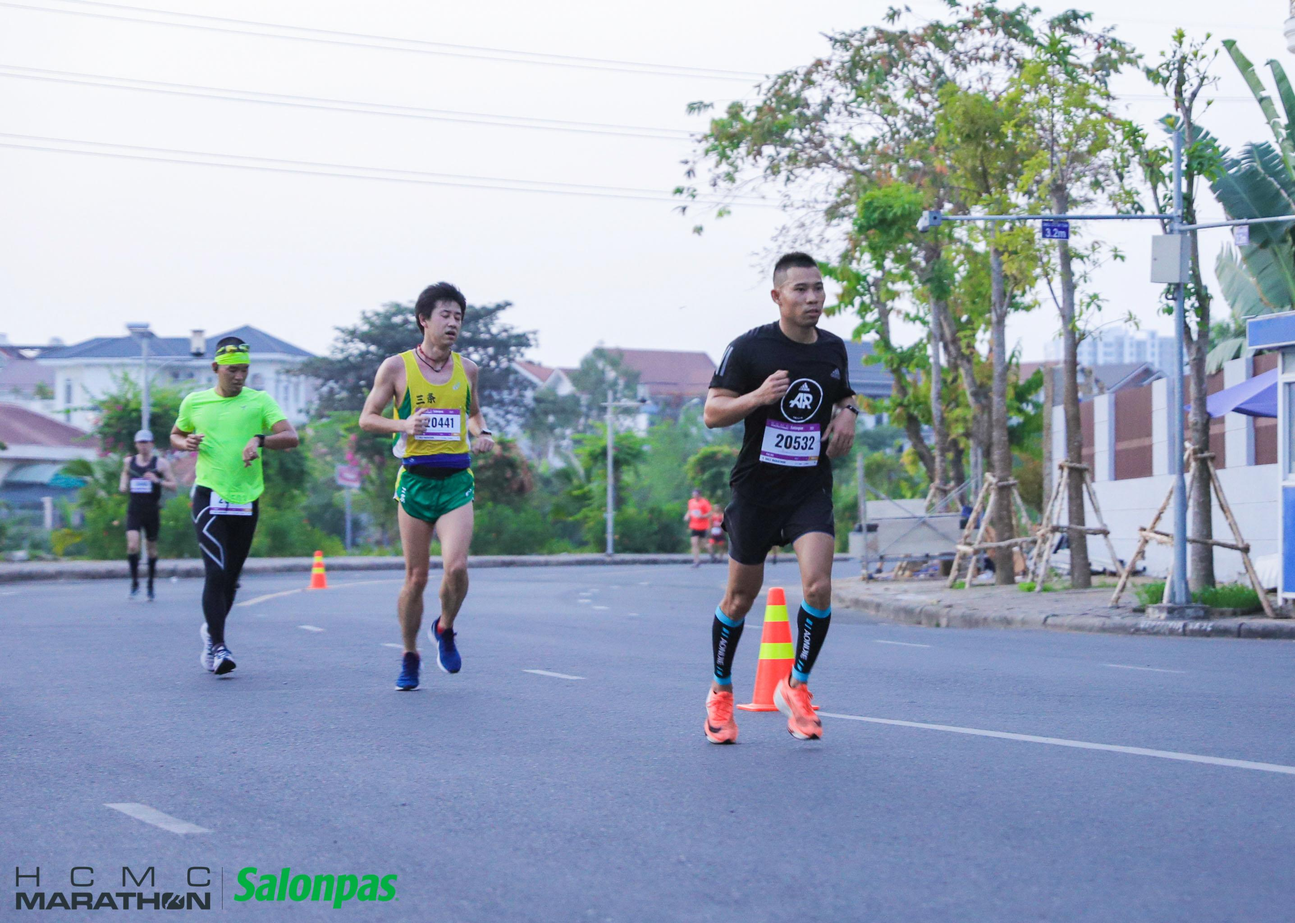bib: (760, 419, 820, 468), (416, 409, 459, 442), (130, 478, 152, 495)
